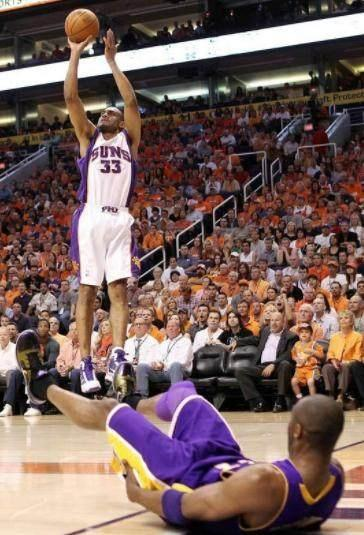10+: (4, 6, 364, 405)
down: (41, 368, 348, 535)
